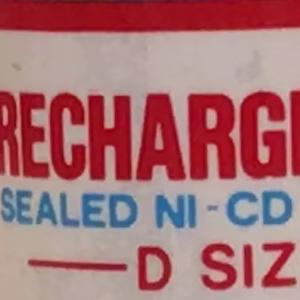NI-CD: (145, 181, 297, 238)
